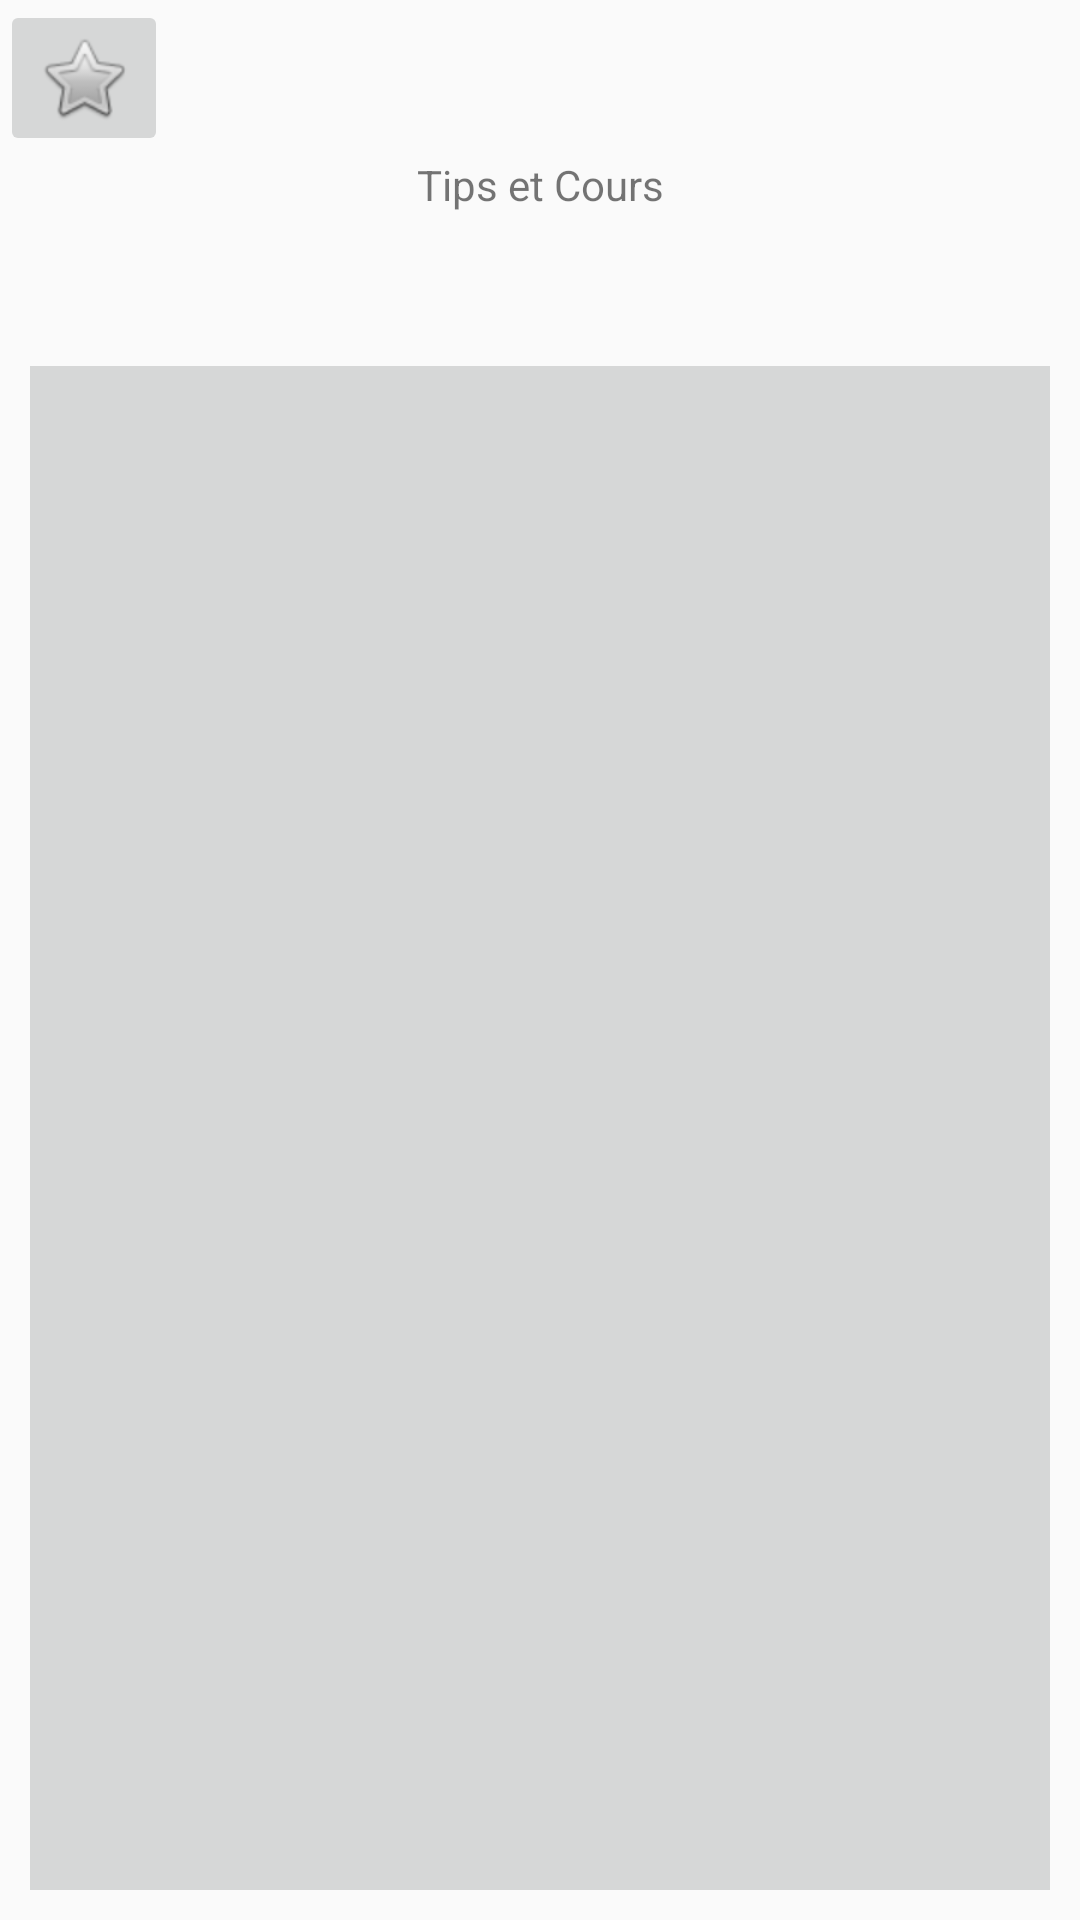

Where to tap for icons on this 1080*1920 app screen, as (x=x, y=y):
star: (x=84, y=78)
